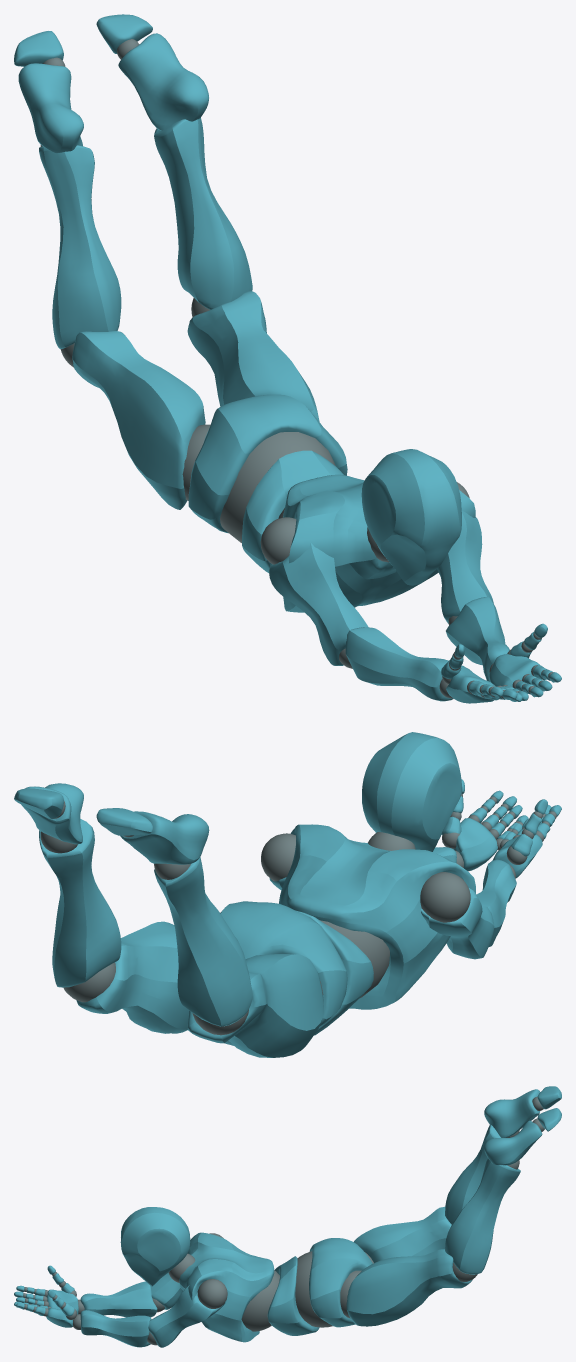
File: YBot_DivePose.fbx
The picture shows the model from 3 angles, top to bottom: view 1: azimuth 30°, elevation 25°; view 2: azimuth 150°, elevation 25°; view 3: azimuth 270°, elevation 25°; orthographic projection. The views are drawn at different scales.
Visible parts, largest first — view 1: Alpha_Surface, Alpha_Joints; view 2: Alpha_Surface, Alpha_Joints; view 3: Alpha_Surface, Alpha_Joints.
Part boxes in pixels (<box>): Alpha_Surface: <box>14,14,561,703</box>; Alpha_Joints: <box>40,39,553,698</box>; Alpha_Surface: <box>14,732,561,1057</box>; Alpha_Joints: <box>40,793,556,1035</box>; Alpha_Surface: <box>14,1086,561,1347</box>; Alpha_Joints: <box>23,1096,544,1345</box>.
Size of the model in its own units: 48.38 by 88.64 by 190.
